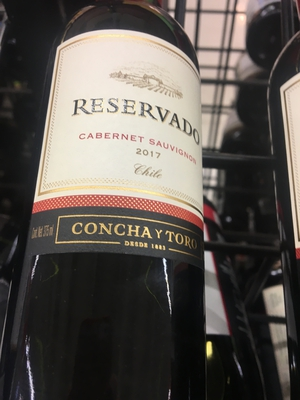reservado cabernet sauvignon: (33, 3, 217, 367)
